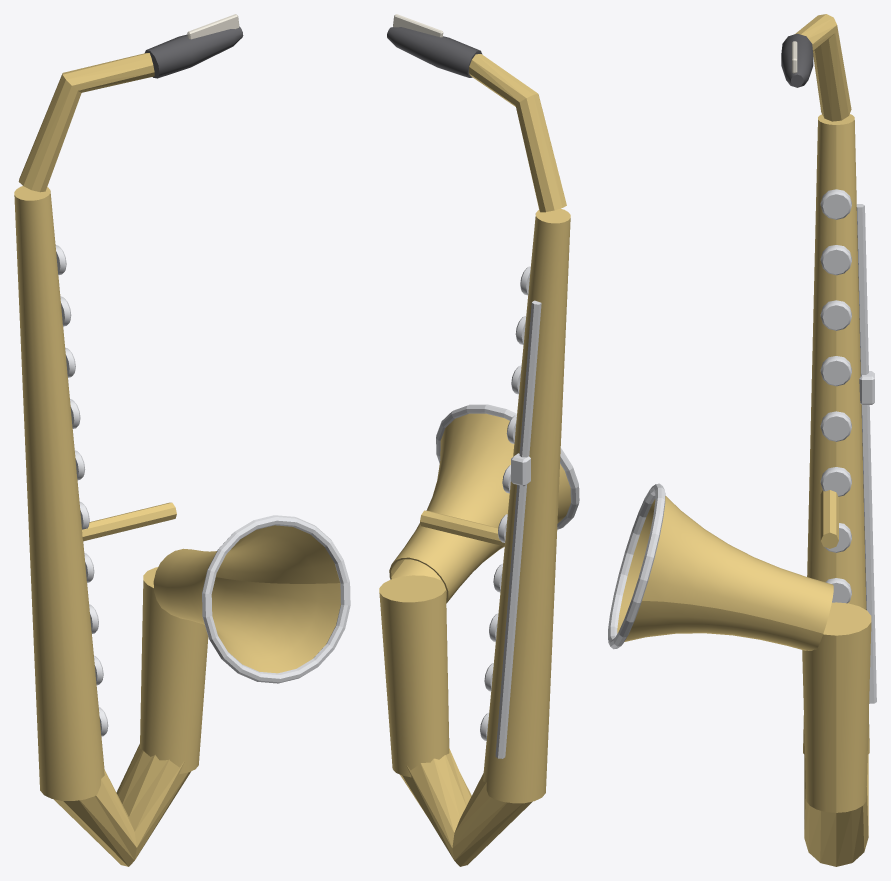
File: saxophone-v2.glb
3 renders of one model, left to right at view 1: azimuth 30°, elevation 25°; view 2: azimuth 150°, elevation 25°; view 3: azimuth 270°, elevation 25°, orthographic. The views are drawn at different scales.
Parts seen in each view (by area): view 1: alto-saxophone; view 2: alto-saxophone; view 3: alto-saxophone.
Boxes of the visible parts, <box> form: alto-saxophone: <box>14,14,350,866</box>; alto-saxophone: <box>379,14,579,866</box>; alto-saxophone: <box>608,14,876,866</box>.
Bounding box in the file's own units: 0.2111 × 0.7243 × 0.2064.
